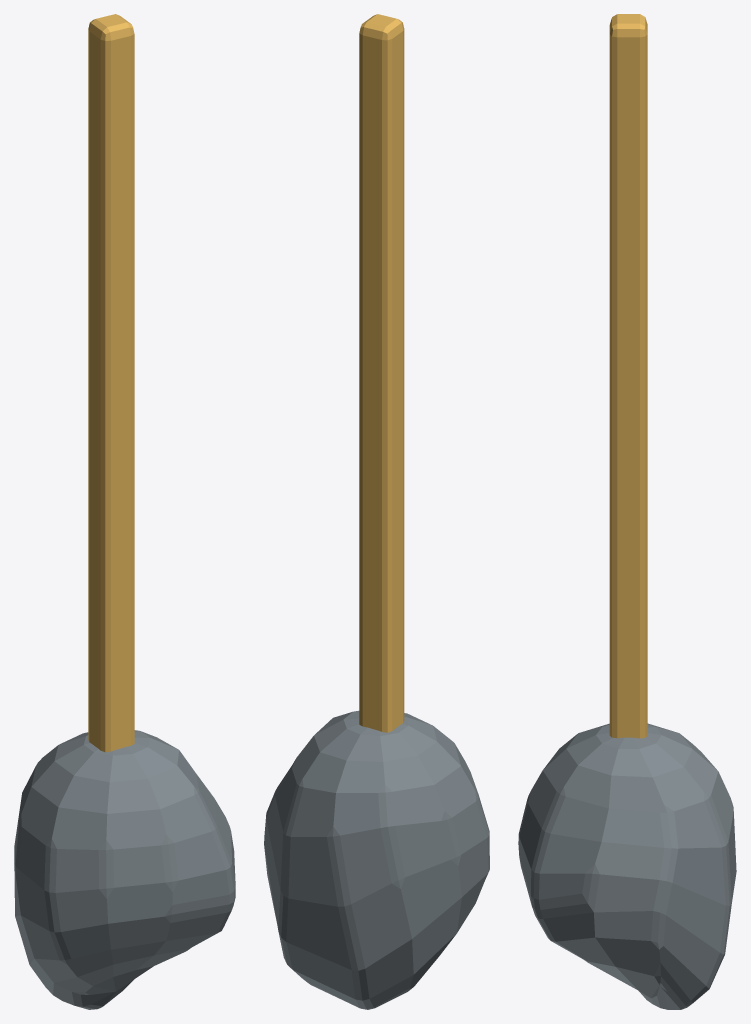
The model's file is Mop.fbx.
The picture shows the model from 3 angles, left to right: view 1: azimuth 30°, elevation 25°; view 2: azimuth 150°, elevation 25°; view 3: azimuth 270°, elevation 25°; orthographic projection. The views are drawn at different scales.
Visible parts, largest first — view 1: Куб; view 2: Куб; view 3: Куб.
Boxes of the visible parts, x1,y1,x2,y2 form: Куб: (14,14,235,1009); Куб: (264,14,489,1009); Куб: (518,14,736,1009).
Size of the model in its own units: 129 by 635 by 127.
